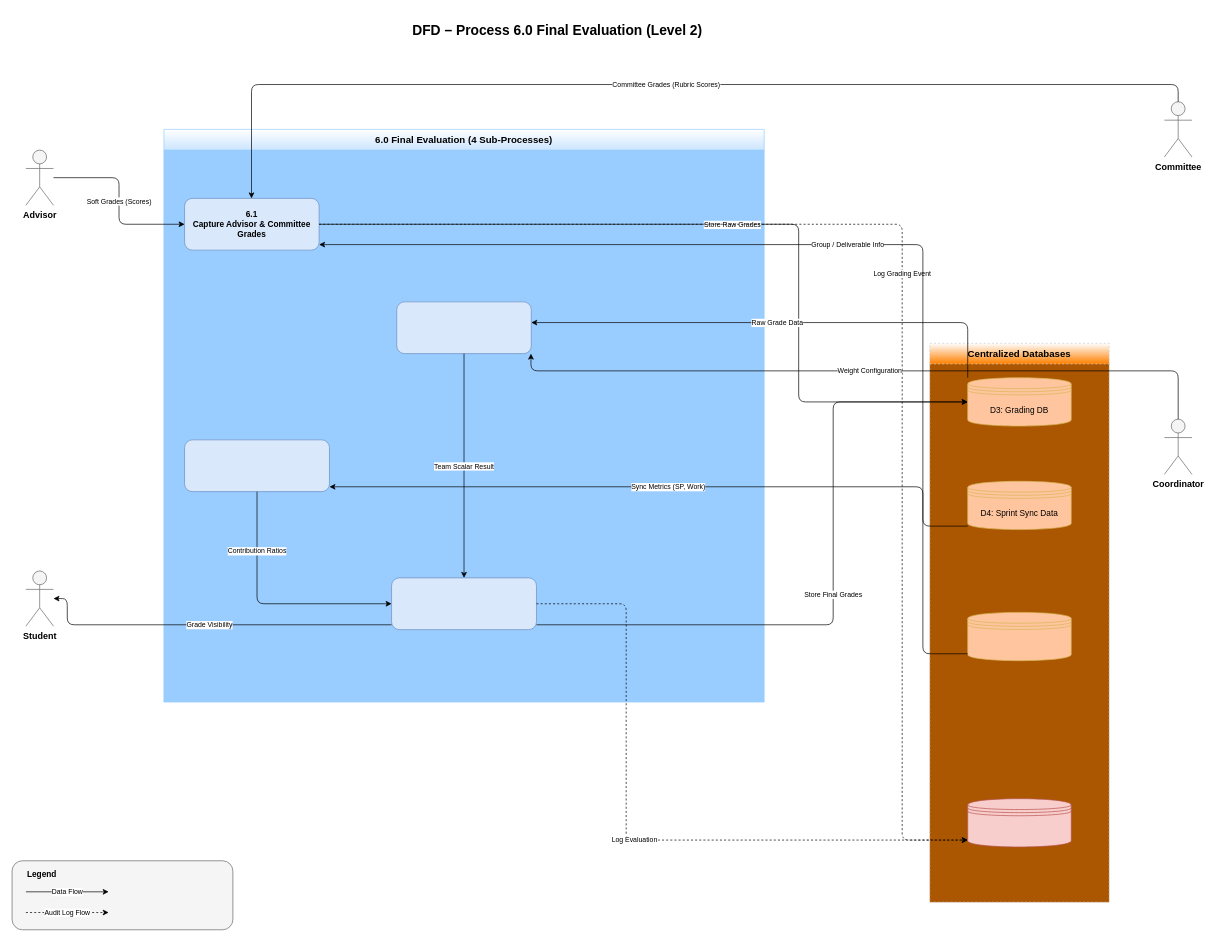
The diagram is 1216 pixels wide and 942 high, and some of its shapes have lost their labels. Each missing label, with the centre of its shape:
6.2 Calculate Team Scalar: the point at 463,327
6.3 Track Individual Contribution: the point at 256,465
6.4 Apply Final Grade Scalars: the point at 463,603
D2: Group DB: the point at 1019,636
D6: Audit Logs: the point at 1019,822
